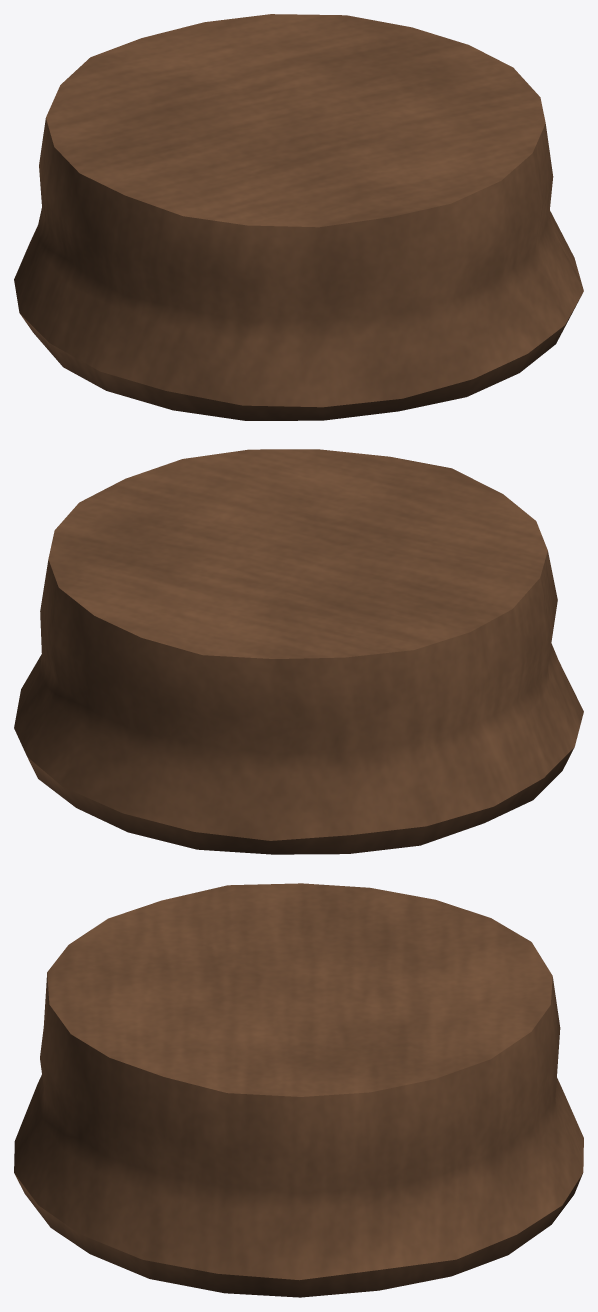
Rendered from pedestal_post.glb.
The picture shows the model from 3 angles, top to bottom: view 1: azimuth 30°, elevation 25°; view 2: azimuth 150°, elevation 25°; view 3: azimuth 270°, elevation 25°; orthographic projection.
Parts seen in each view (by area): view 1: Base; view 2: Base; view 3: Base.
Boxes of the visible parts, left/top/right/bottom form: Base: left=14, top=14, right=583, bottom=420; Base: left=14, top=449, right=583, bottom=854; Base: left=14, top=883, right=583, bottom=1297.
Bounding box in the file's own units: 1.38 × 0.5111 × 1.36.
Materials: 1 (1 with a texture image).
